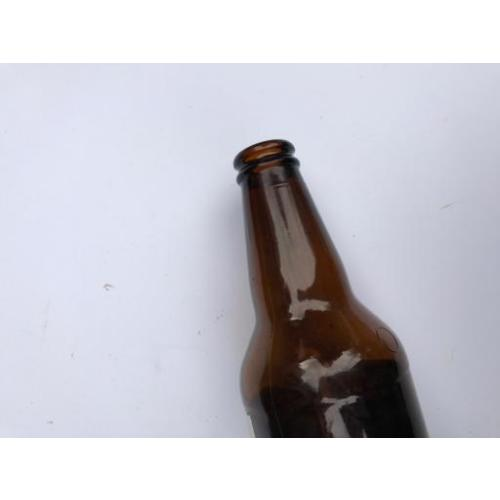glass: (234, 141, 430, 437)
